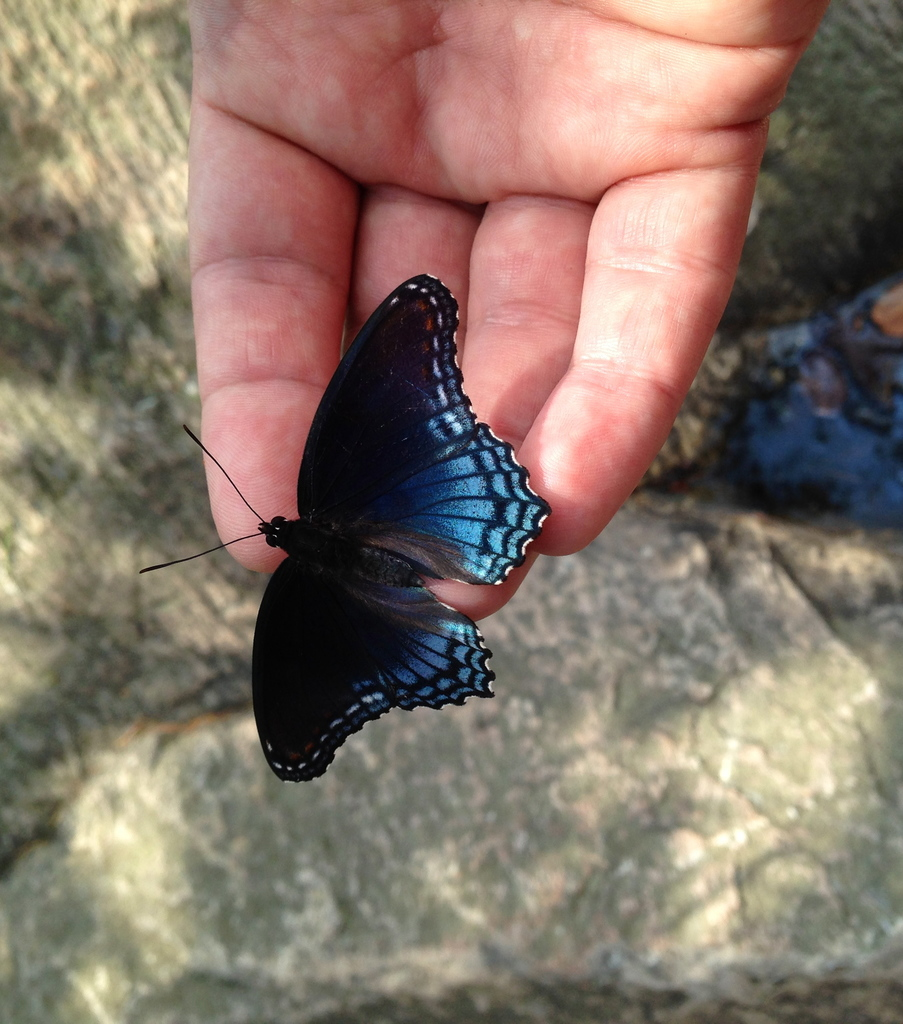Butterfly: (159, 247, 543, 790)
